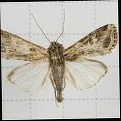Spodoptera litura: (1, 7, 119, 108)
